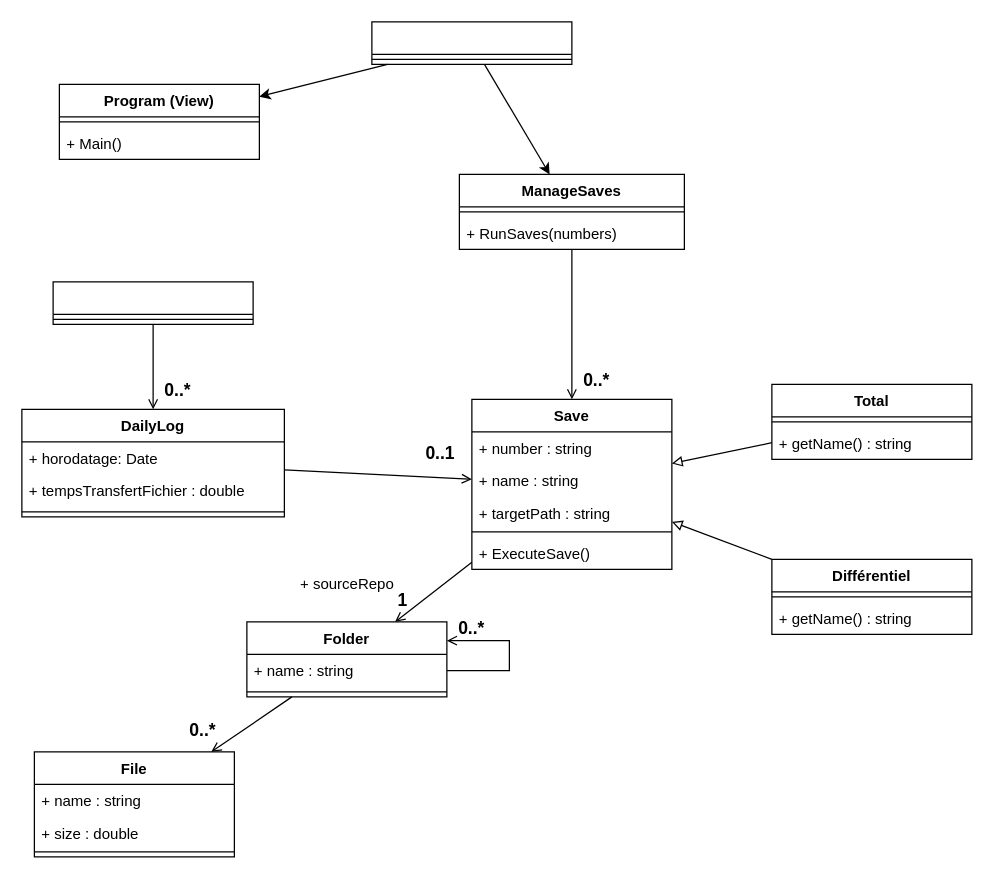
This 994x879 diagram has some shape labels left out. Each missing label, with the centre of its shape:
"DailyLogs" belongs at point (152, 302).
"ModelView" belongs at point (471, 42).
